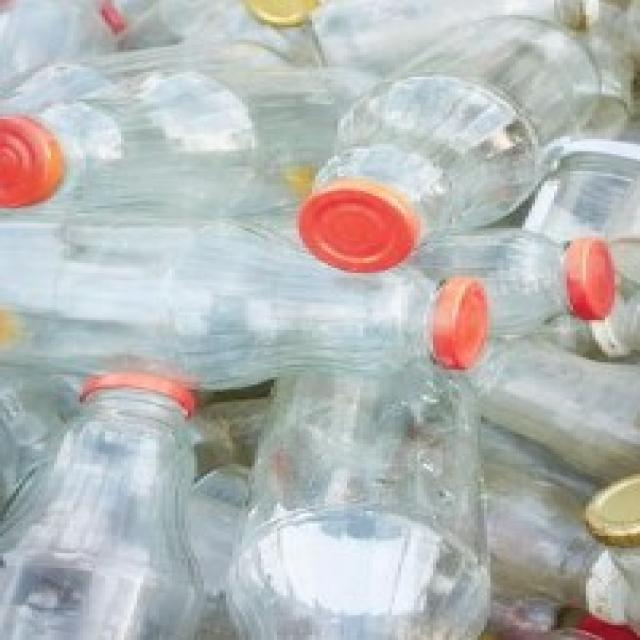electronic: (9, 215, 495, 392), (228, 337, 498, 640), (297, 16, 607, 276), (0, 37, 380, 227), (6, 371, 200, 640), (405, 213, 619, 340)
